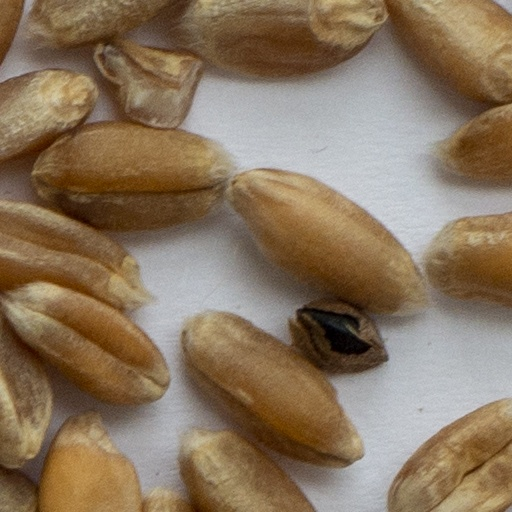Fallopia-Сonvolvulus-poly: (293, 299, 386, 373)
Wheat-grain-damaged-poly: (95, 42, 200, 128)
Wheat-grain-poly: (229, 170, 430, 315), (389, 399, 511, 511), (424, 213, 511, 307)
